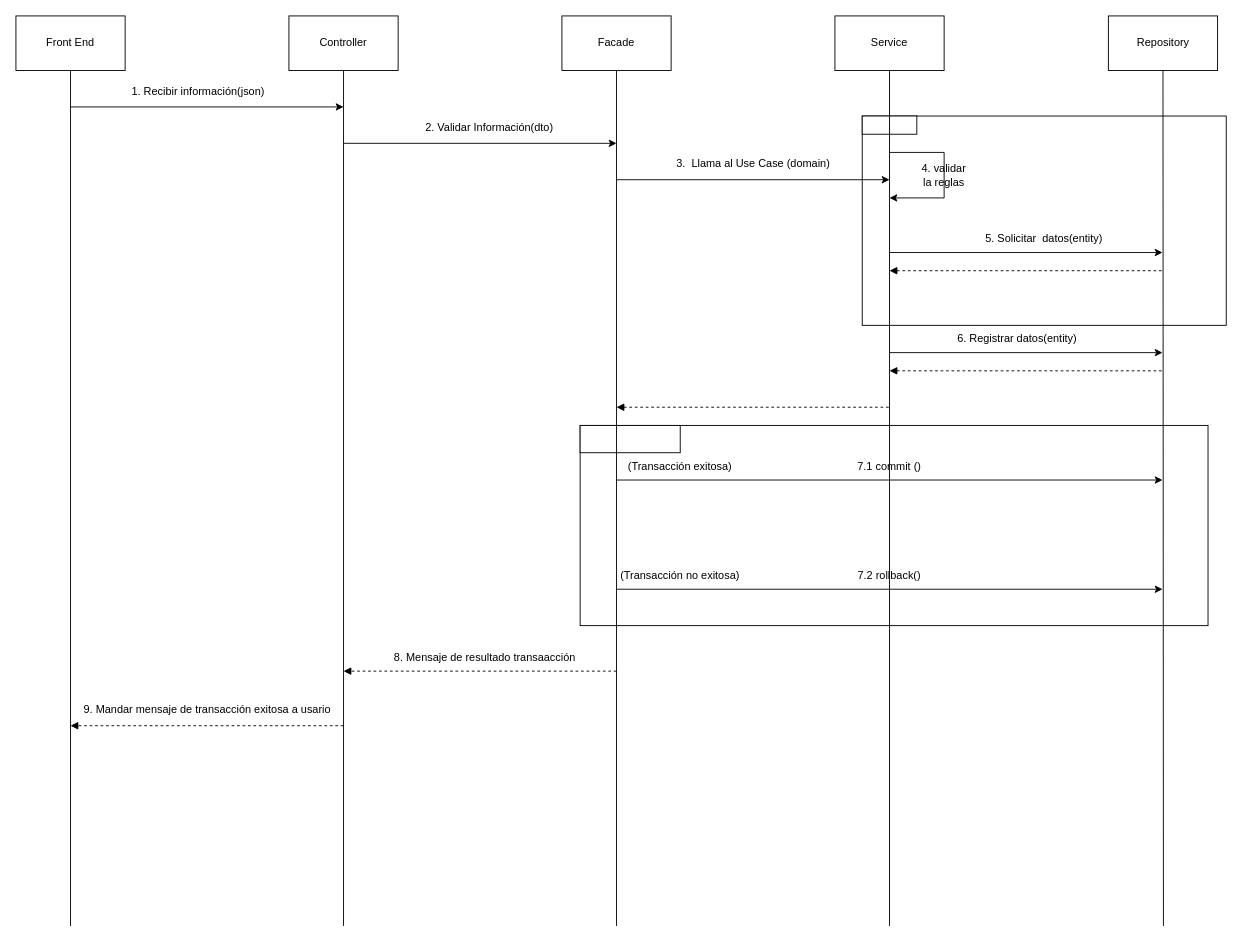
This 1242x943 diagram has some shape labels left out. Each missing label, with the box of its shape:
alt: (579, 425, 680, 453)
loop: (861, 115, 917, 134)
